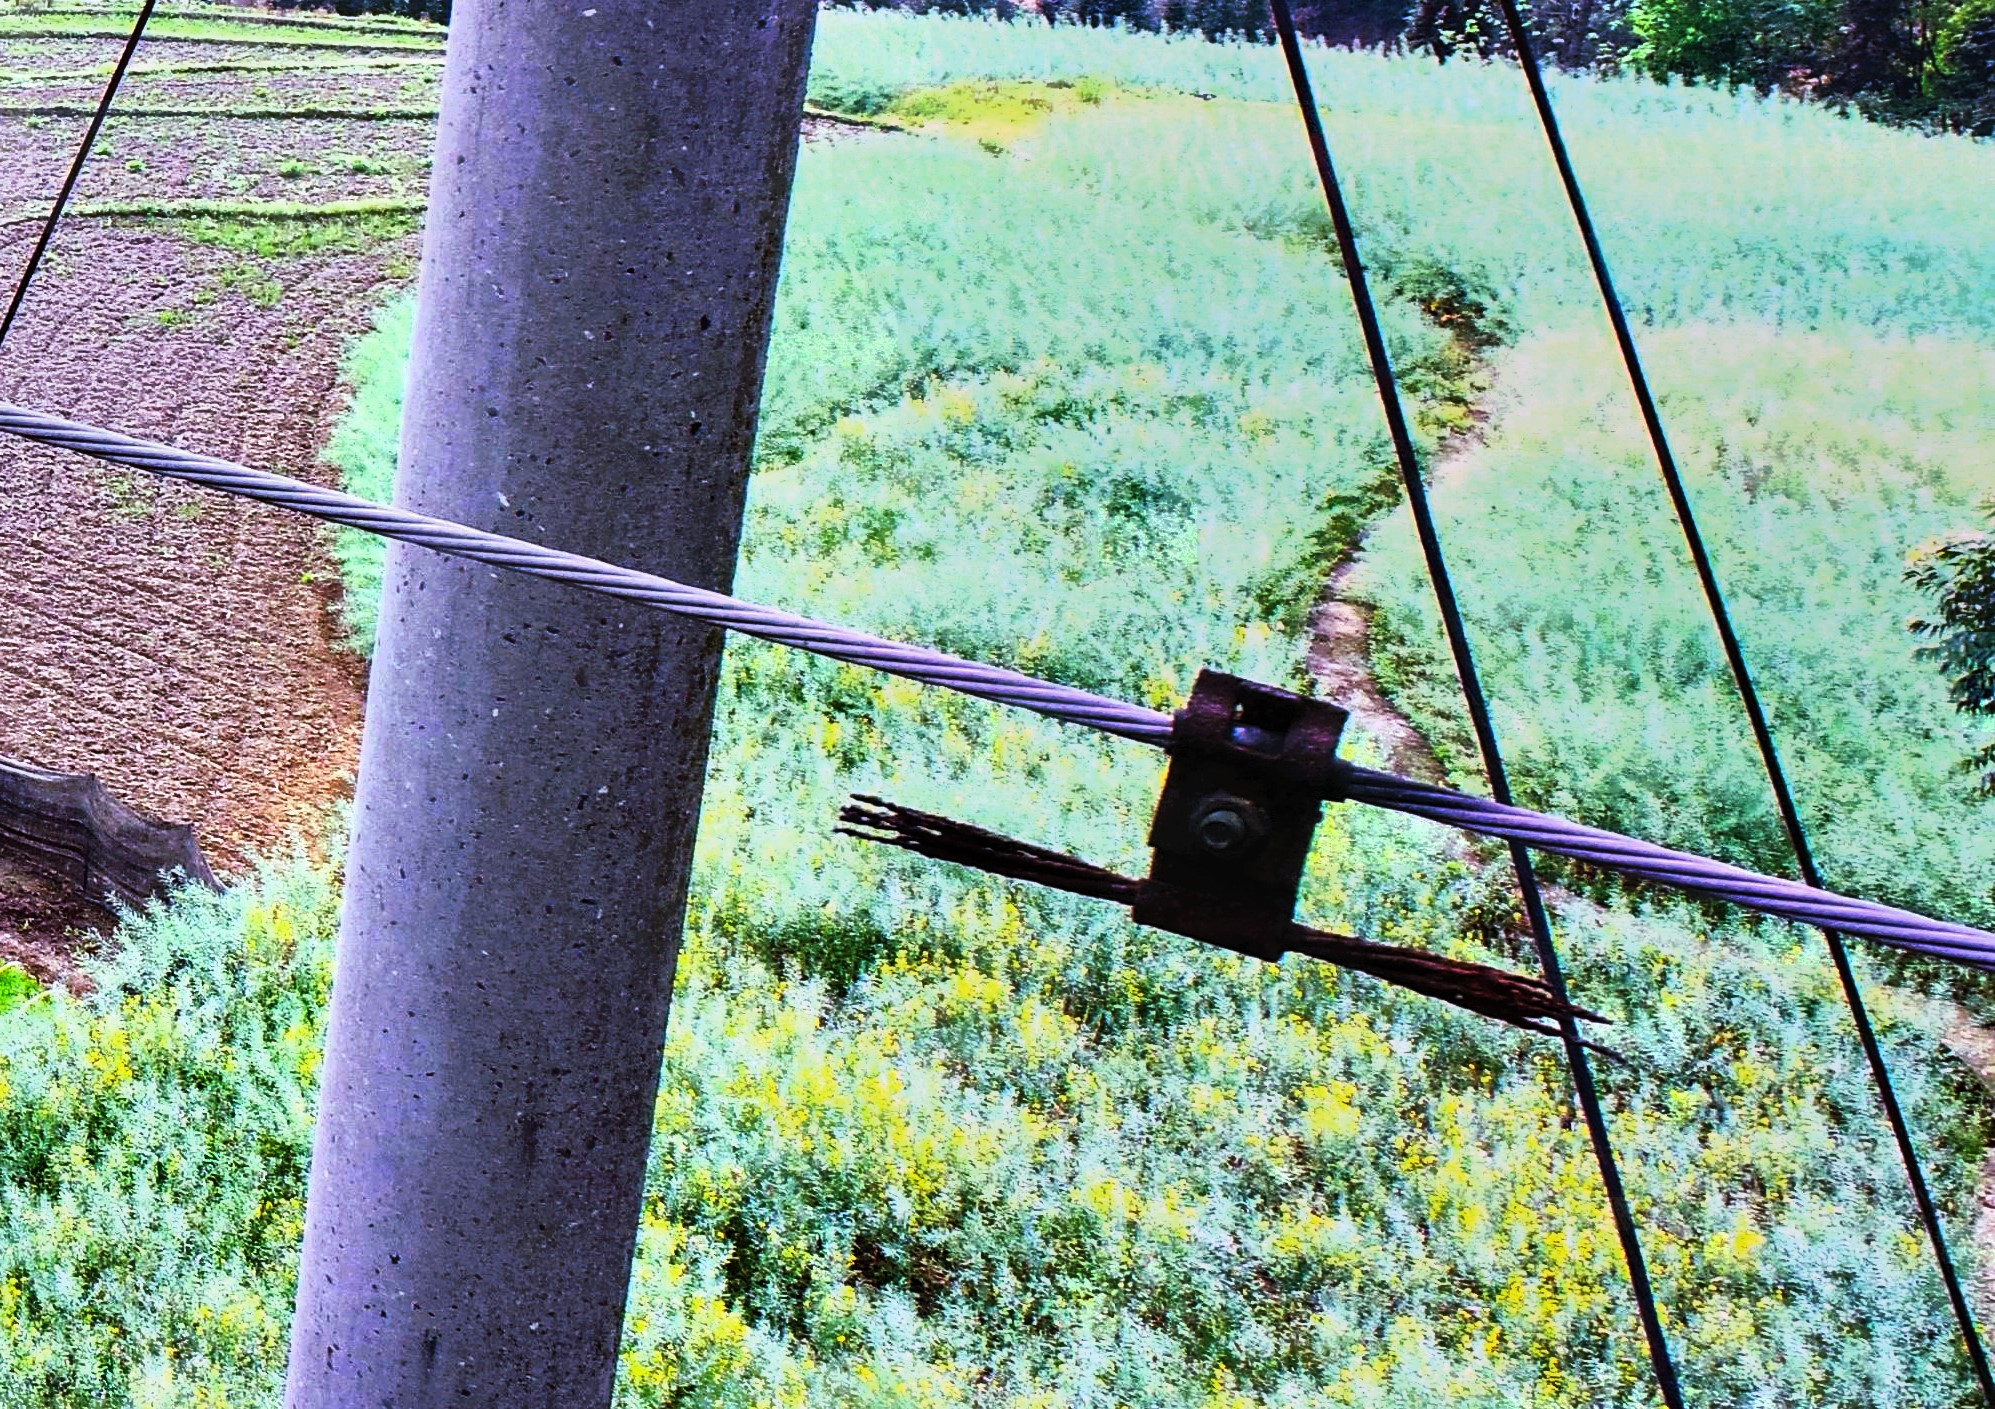Damage of shockproof hammer: (814, 611, 1612, 1058)
